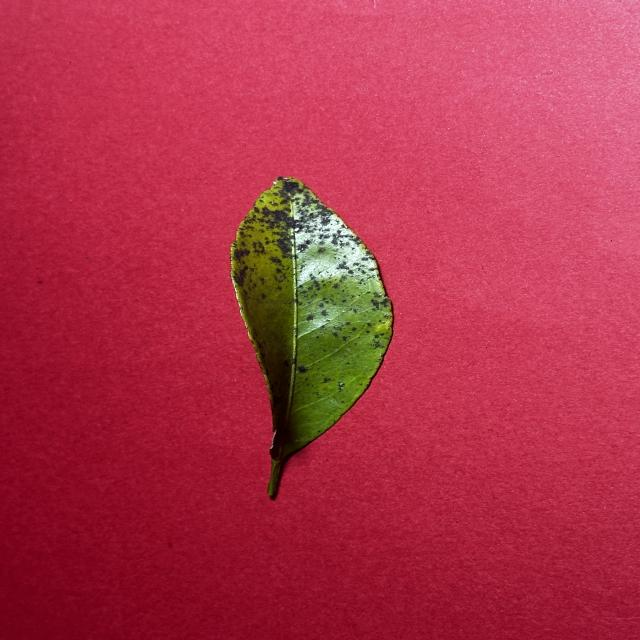sooty_mold: (231, 178, 393, 495)
